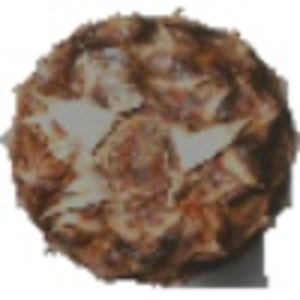abacaxi: (5, 12, 298, 276)
